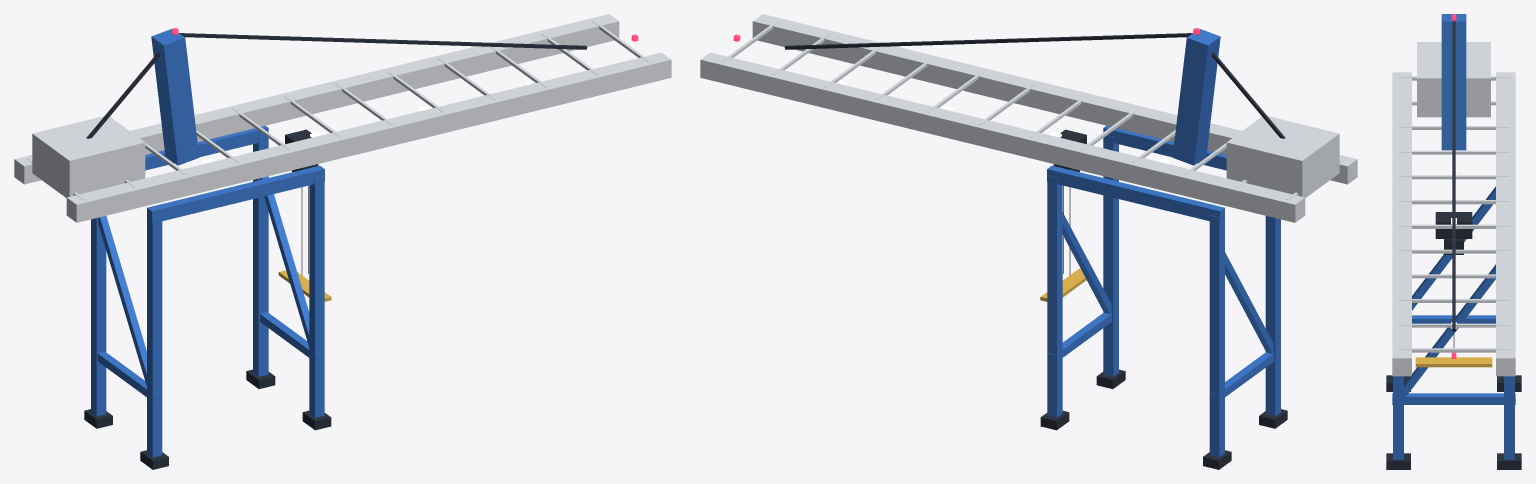
Rendered from sts_quay_crane.glb.
3 views of the same model, side by side, from view 1: azimuth 30°, elevation 25°; view 2: azimuth 150°, elevation 25°; view 3: azimuth 270°, elevation 25° (orthographic).
Parts seen in each view (by area): view 1: sts; view 2: sts; view 3: sts.
Part boxes in pixels (x1,y1,x2,y2): sts: [14, 14, 671, 469]; sts: [700, 14, 1357, 469]; sts: [1386, 14, 1521, 469].
Bounding box in the file's own units: 110 × 71 × 22.
